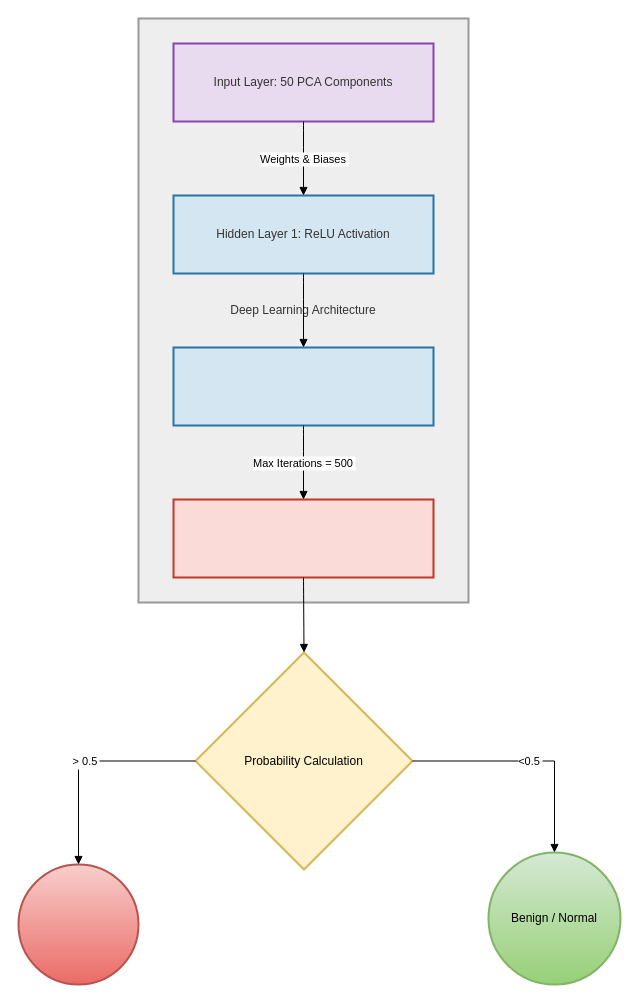
This 638x1002 diagram has some shape labels left out. Here are the shapes that lost their labels. From the top down, the centre of each, then its label:
At pixel 303 386: "Hidden Layer 2: ReLU Activation".
At pixel 303 538: "Output Layer: Sigmoid/Softmax".
At pixel 78 924: "Malignant".
